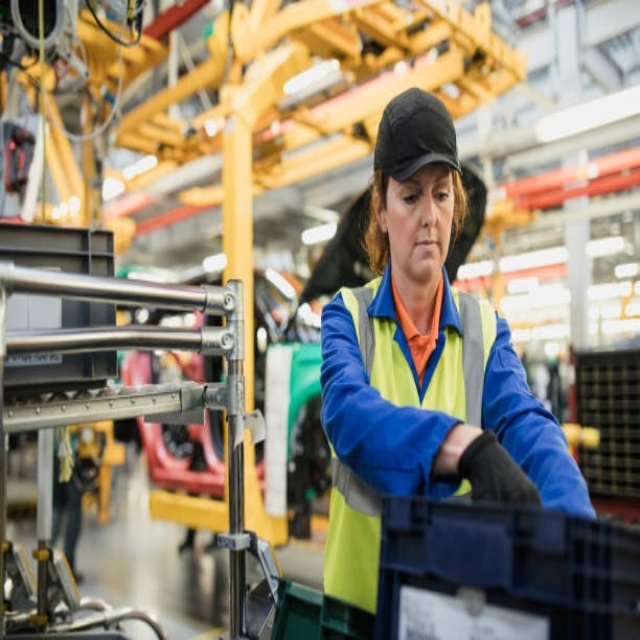Guantes: (460, 429, 542, 506)
Sin_gafas: (392, 174, 455, 215)
Sin_mascara: (407, 229, 444, 273)
